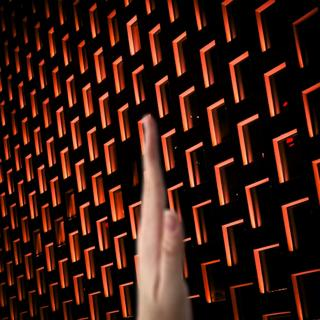Right: (125, 106, 201, 310)
